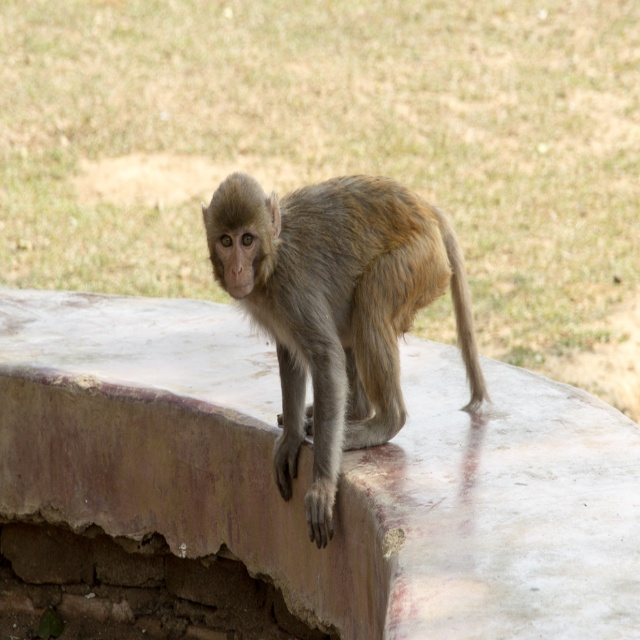Monkey: (201, 170, 497, 550)
